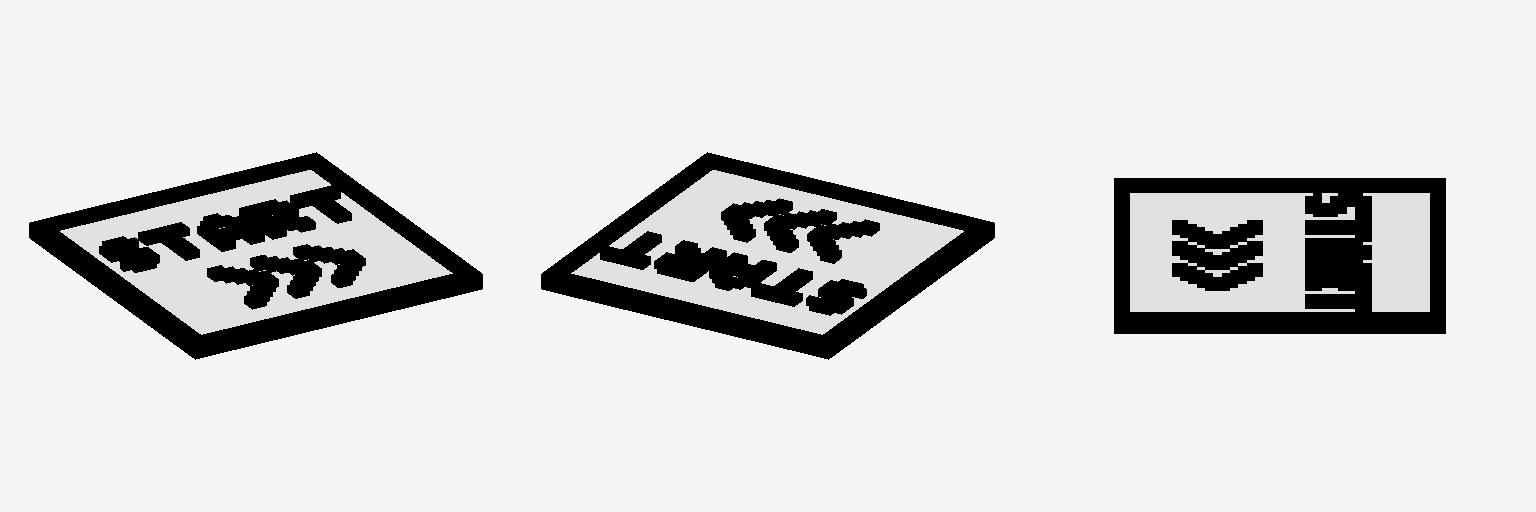
3 renders of one model, left to right at view 1: azimuth 30°, elevation 25°; view 2: azimuth 150°, elevation 25°; view 3: azimuth 270°, elevation 25°, orthographic.
Visible parts, largest first — view 1: object 1; view 2: object 1; view 3: object 1.
Boxes of the visible parts, x1=… form: object 1: x1=29, y1=152, x2=482, y2=359; object 1: x1=541, y1=152, x2=994, y2=359; object 1: x1=1114, y1=178, x2=1445, y2=333.
Bounding box in the file's own units: 4 × 0.2 × 4.
1 materials, 1 textured.